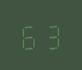six: (19, 20, 40, 50)
three: (41, 19, 62, 49)
